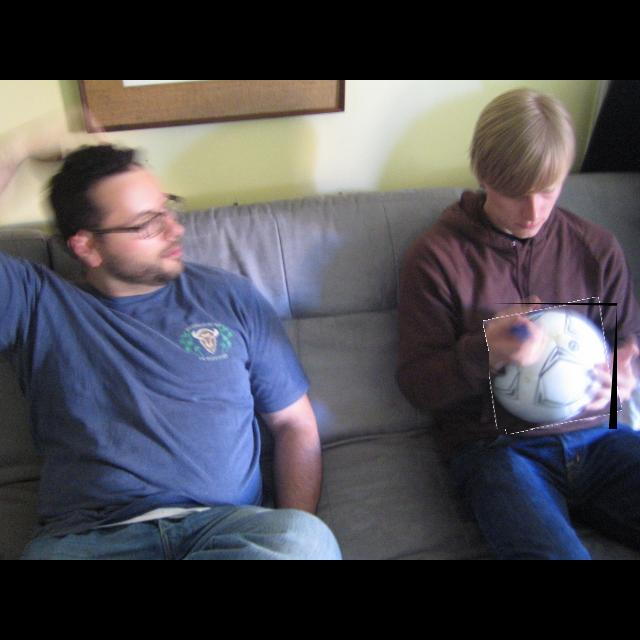Football: (489, 303, 617, 429)
